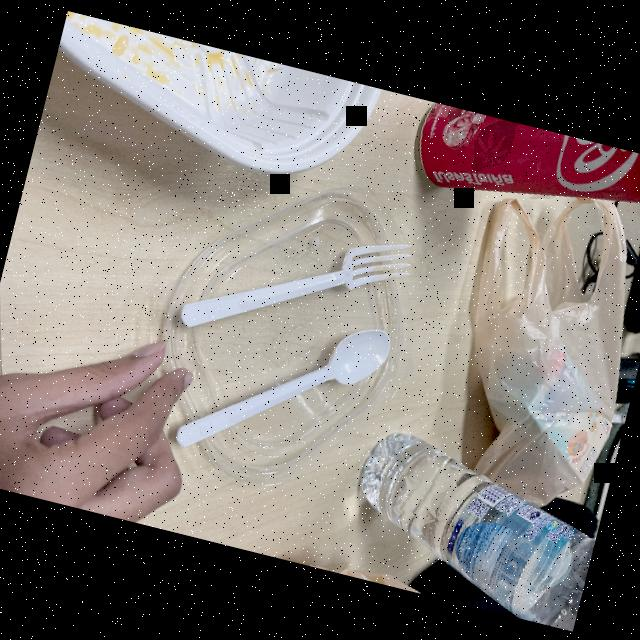plastic_spoon: (168, 278, 404, 488), (170, 190, 418, 382)
